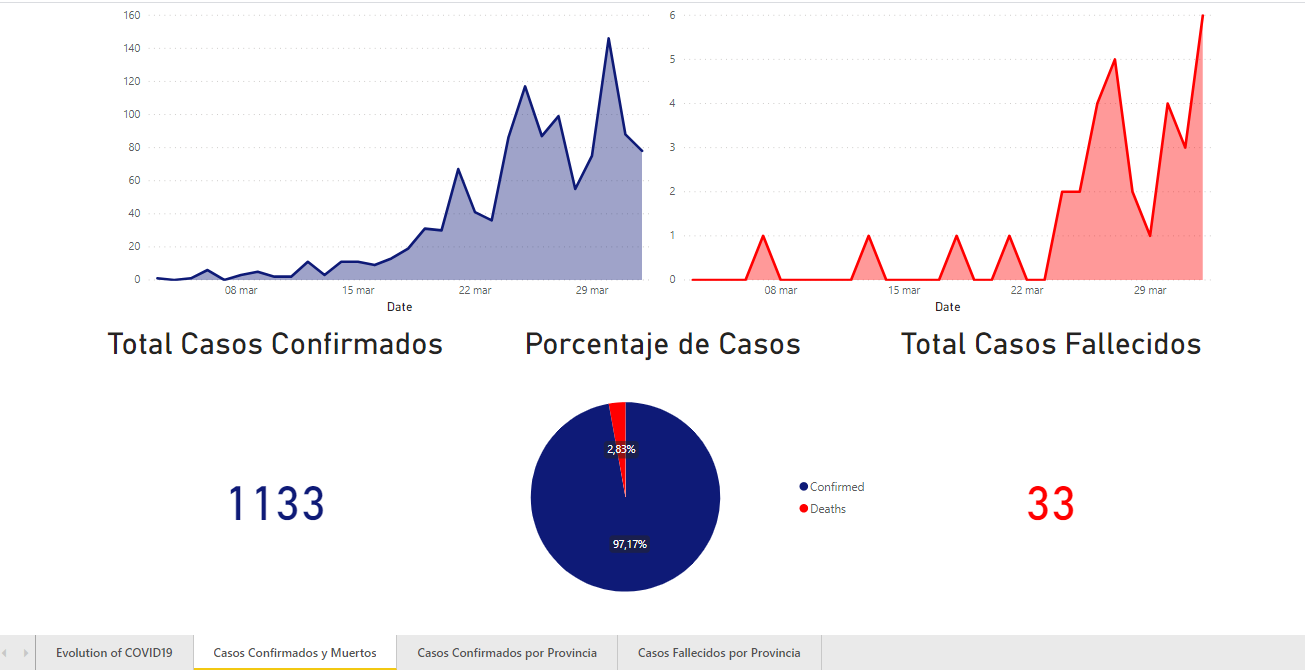

What the dashboard file says about the page in this screenshot:
{"tool":"powerbi","page":{"name":"Casos Confirmados y Fallecidos","canvas":[1280,720],"ordinal":1},"visuals":[{"type":"areaChart","fields":{"Y":["Sum(COVID19_Deaths.Value)"],"Category":["COVID19_Deaths.Date"]},"box":[640,0,640,359.2],"z":0},{"type":"areaChart","fields":{"Category":["COVID19_Confirmed.Date"],"Y":["Sum(COVID19_Confirmed.Confirmed)"]},"box":[17.9,0,622.1,359.2],"z":1000},{"type":"card","title":"Total Casos Confirmados","fields":{"Values":["Sum(COVID19_Confirmed.Confirmed)"]},"box":[0,368.9,395,351],"z":2000},{"type":"card","title":"Total Casos Fallecidos","fields":{"Values":["Sum(COVID19_Deaths.Value)"]},"box":[885,368.9,395,351],"z":3000},{"type":"pieChart","title":"Porcentaje de Casos","fields":{"Y":["COVID19_Confirmed.Confirmados","COVID19_Deaths.Fallecidos"]},"box":[395,368.9,490,351],"z":4000}]}

Visuals, with their boxes on the page's 1280x720 design canvas (x1, y1, x2, y2). These are canvas units, not pixel positions in the 1305x670 screenshot, which may show the page scaled, cropped or inside an application window:
areaChart - Sum(COVID19_Deaths.Value) x COVID19_Deaths.Date: 640/0/1280/359
areaChart - COVID19_Confirmed.Date x Sum(COVID19_Confirmed.Confirmed): 18/0/640/359
"Total Casos Confirmados" card: 0/369/395/720
"Total Casos Fallecidos" card: 885/369/1280/720
"Porcentaje de Casos" pieChart: 395/369/885/720
